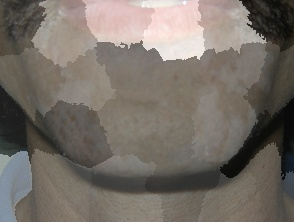vitiligo: (3, 0, 289, 189)
